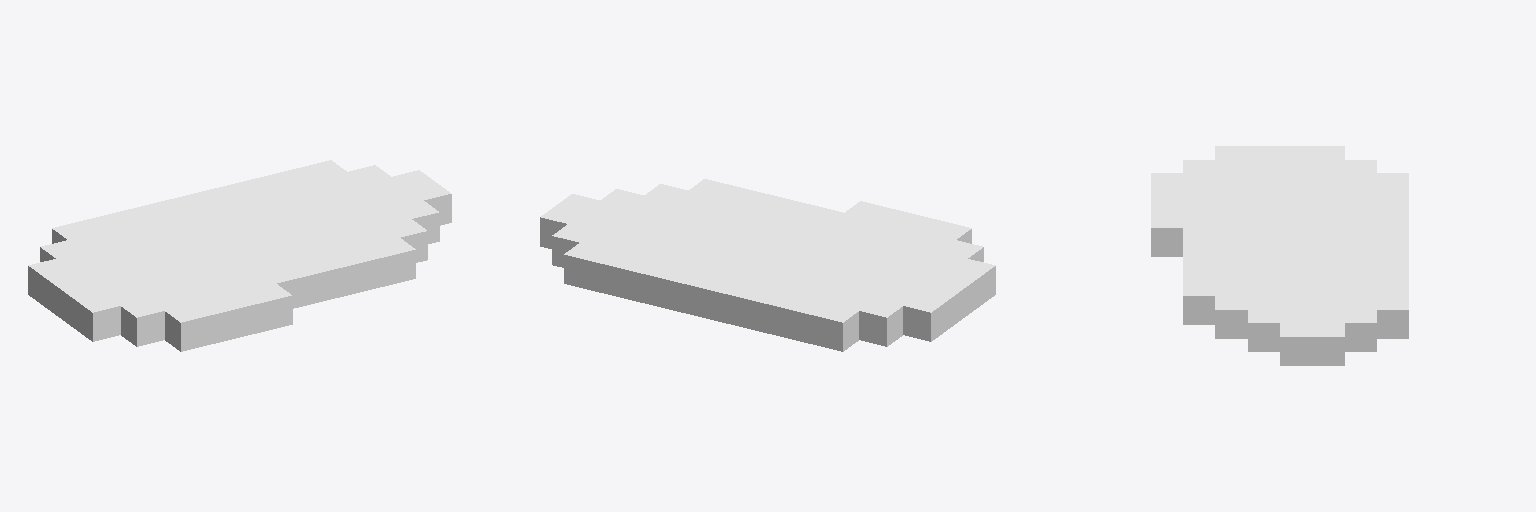
The model's file is shotgun.obj.
The picture shows the model from 3 angles: view 1: azimuth 30°, elevation 25°; view 2: azimuth 150°, elevation 25°; view 3: azimuth 270°, elevation 25°; orthographic projection.
Parts seen in each view (by area): view 1: object 1; view 2: object 1; view 3: object 1.
Boxes of the visible parts, <box> form: object 1: <box>28,160,451,351</box>; object 1: <box>540,179,995,351</box>; object 1: <box>1151,146,1408,365</box>.
Size of the model in its own units: 1.4 by 0.1 by 0.8.